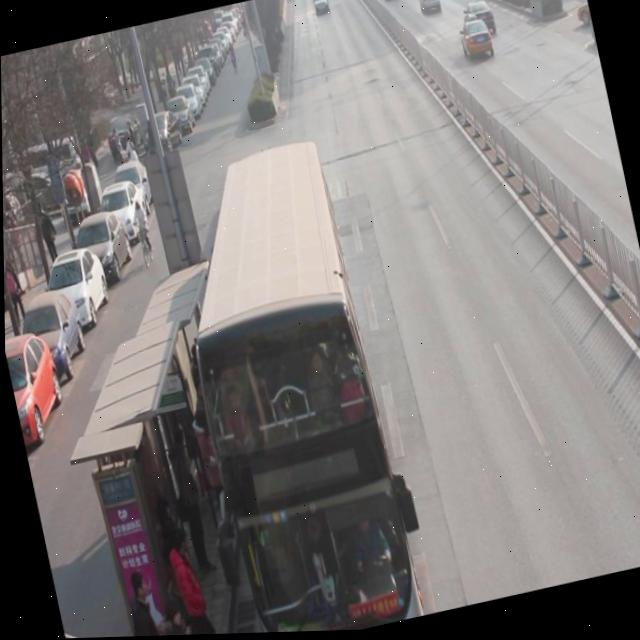car: (455, 12, 497, 66), (462, 0, 498, 43), (572, 0, 593, 33), (416, 0, 444, 21), (310, 0, 330, 18), (380, 0, 400, 3)
van: (155, 131, 422, 636)
